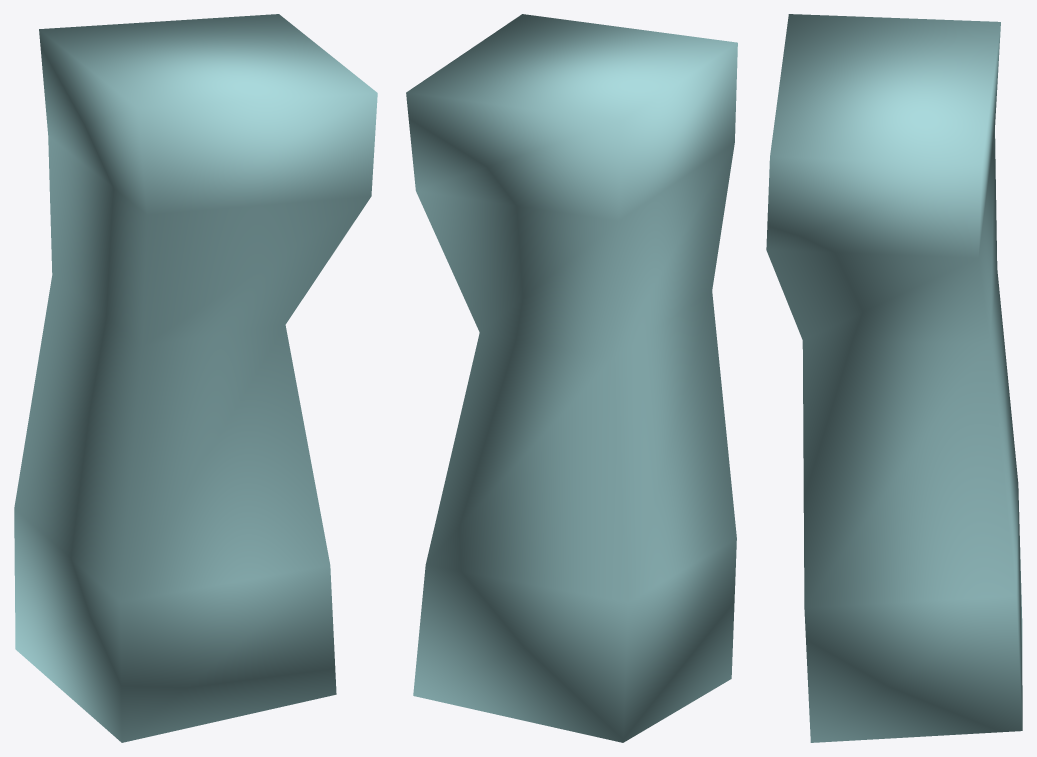
Rendered from Skelly_f_pinky.02.L.fbx.
The picture shows the model from 3 angles, left to right: view 1: azimuth 30°, elevation 25°; view 2: azimuth 150°, elevation 25°; view 3: azimuth 270°, elevation 25°; orthographic projection. The views are drawn at different scales.
Parts seen in each view (by area): view 1: Skelly_f_pinky.02.L; view 2: Skelly_f_pinky.02.L; view 3: Skelly_f_pinky.02.L.
Part boxes in pixels (x1,y1,x2,y2): Skelly_f_pinky.02.L: [14, 14, 377, 742]; Skelly_f_pinky.02.L: [406, 14, 737, 742]; Skelly_f_pinky.02.L: [766, 14, 1022, 742].
Bounding box in the file's own units: 1.13 × 2.82 × 1.04.
